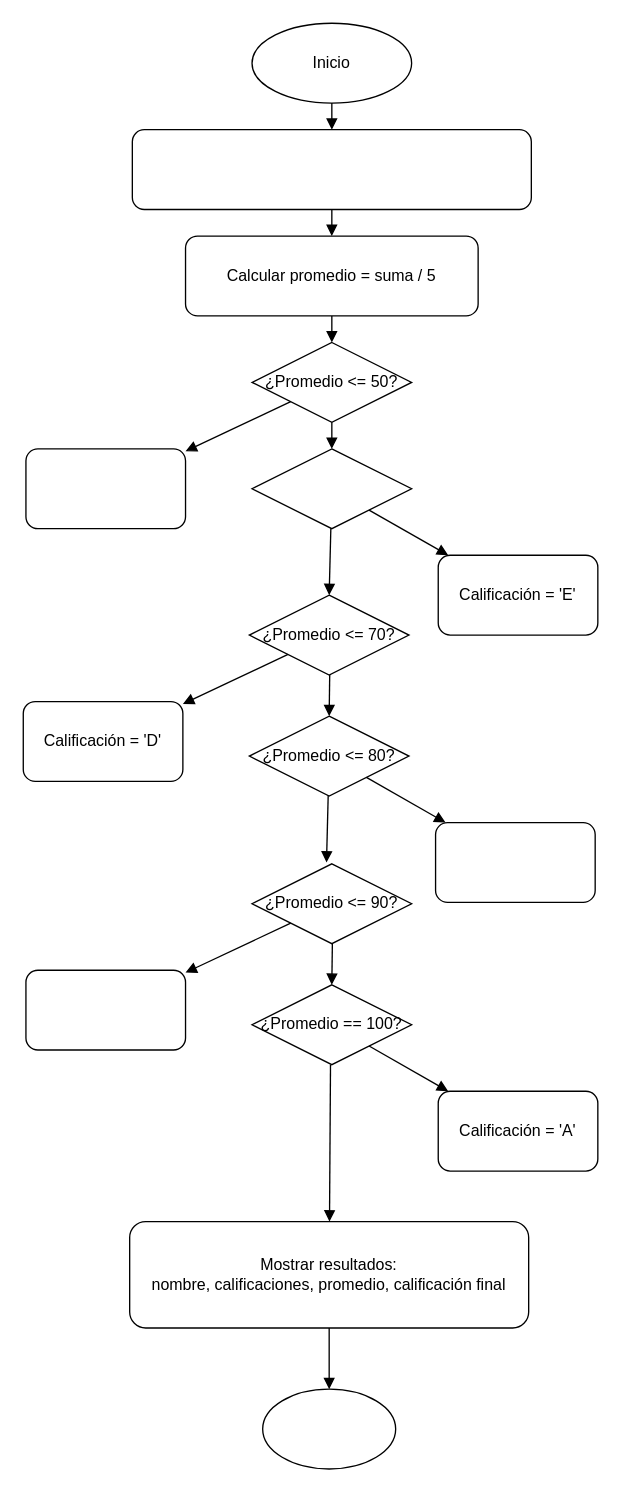
Image size: 621x1492. Some labels were removed from this diagram. Here are the shapes that lost their labels. From the top down, the centre of each, then its label:
point (331, 168): Definir variables: nombre (String), calificaciones[5] (double)
point (105, 488): Calificación = 'F'
point (331, 488): ¿Promedio <= 60?
point (514, 861): Calificación = 'C'
point (105, 1009): Calificación = 'B'
point (328, 1428): Fin
